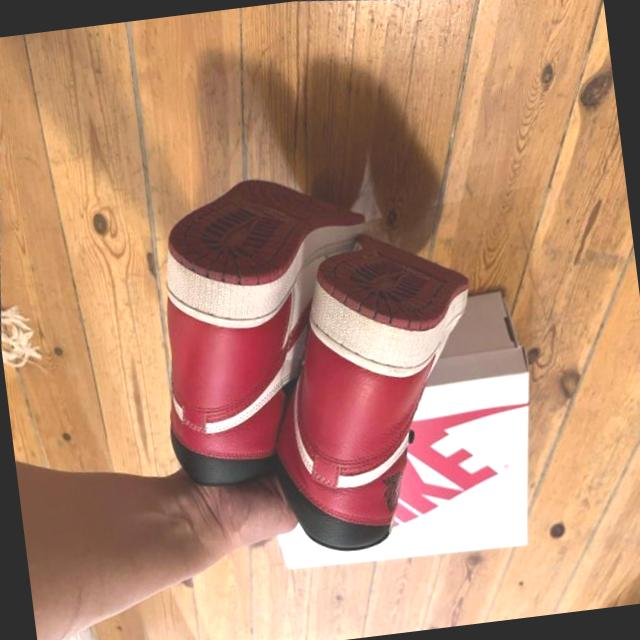nike_original_jordan: (235, 208, 509, 572), (128, 152, 402, 511)
